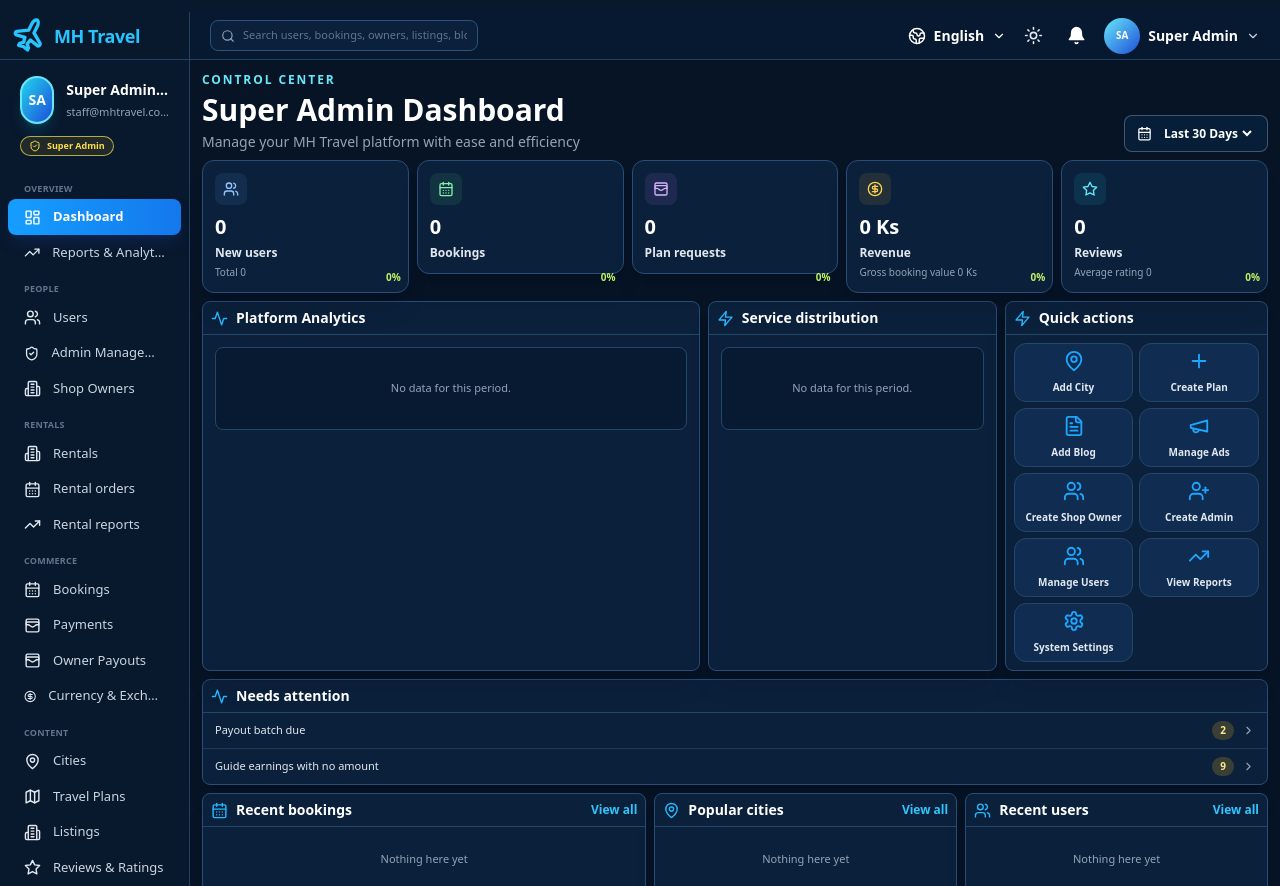
Test: the Super Admin shell (Plan §3A.3, §3A.4) › gives each entry its own panel, so no two ids share a screen
Click the button "Payments" at (94, 625), box [8, 607, 181, 643]
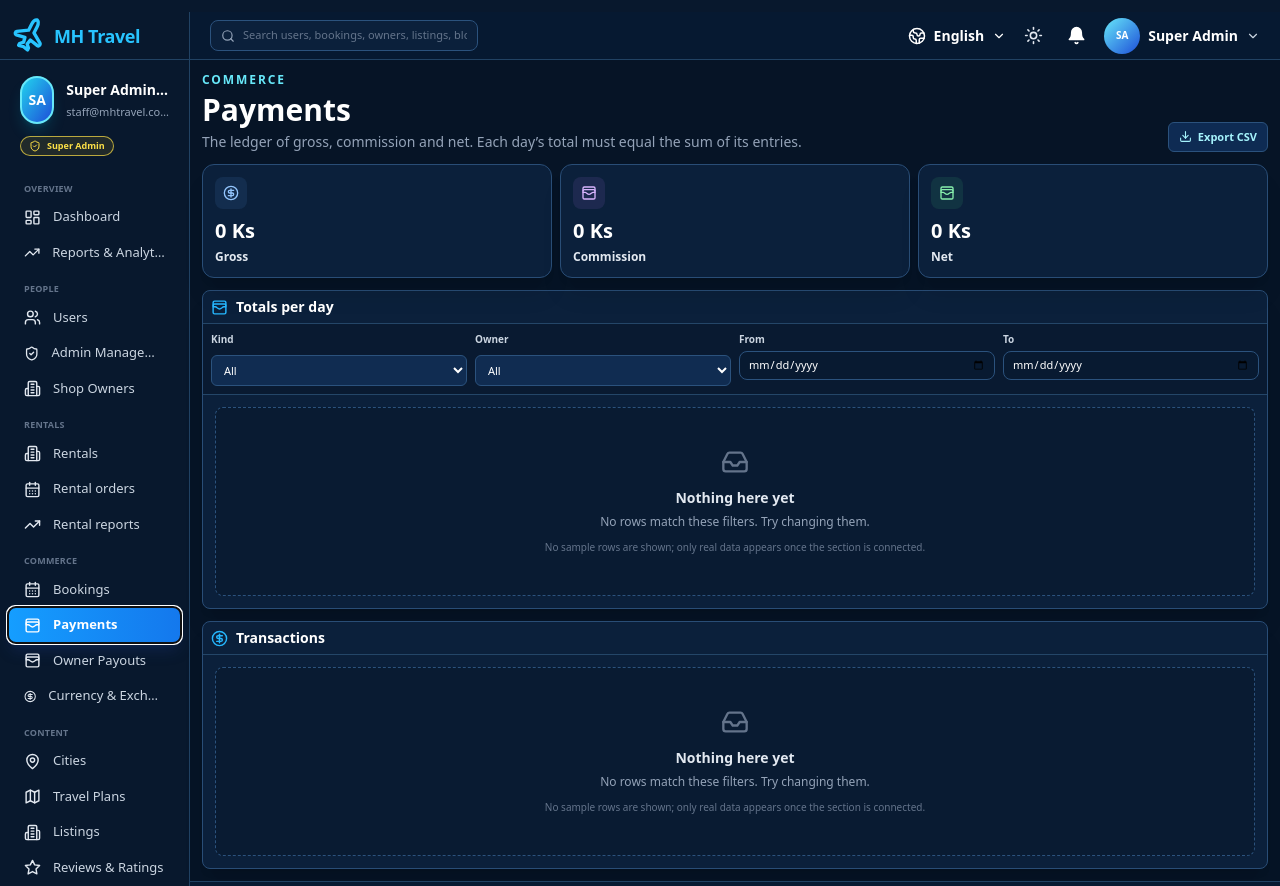
Expected: the heading "Payments" is shown, [202, 89, 351, 130]
Expected: the text "The ledger of gross, commission and net. Each day’s total must equal the sum of its entries." is shown, [202, 132, 802, 151]
